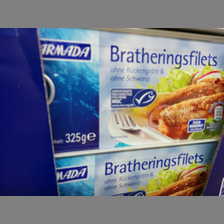fish: (37, 29, 224, 154), (47, 143, 219, 196)
